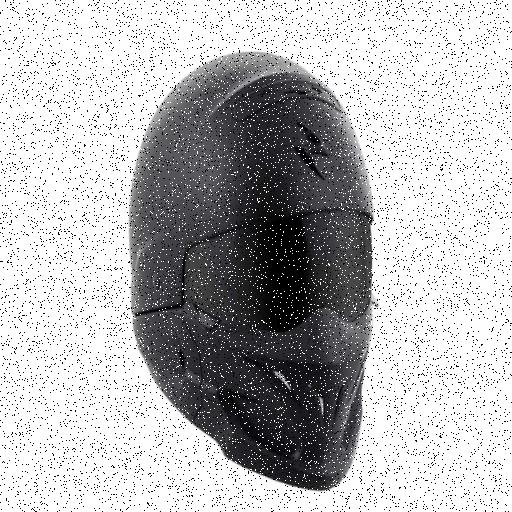Helmet: (104, 59, 390, 495)
